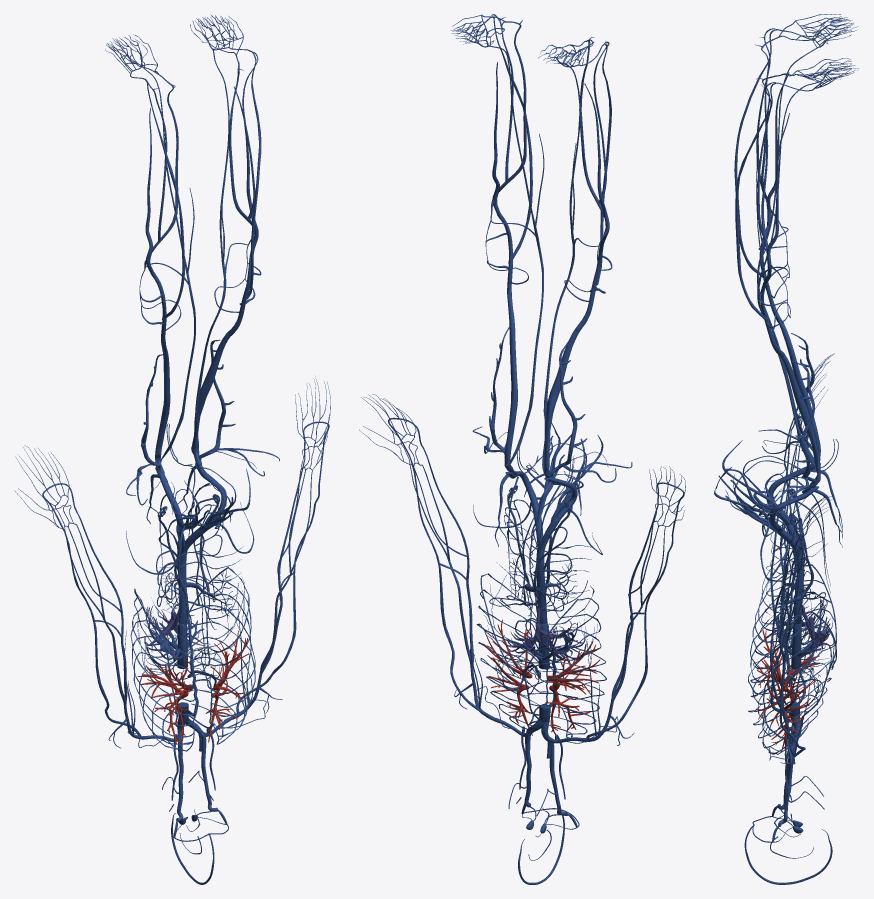
Rendered from venous.glb.
3 renders of one model, left to right at view 1: azimuth 30°, elevation 25°; view 2: azimuth 150°, elevation 25°; view 3: azimuth 270°, elevation 25°, orthographic. The views are drawn at different scales.
Parts seen in each view (by area): view 1: FJ1985, FJ1994, FJ2103, FJ2145, FJ2102, FJ2144, FJ2121, FJ2176, FJ2220, FJ2272; view 2: FJ1994, FJ2103, FJ2145, FJ1985, FJ2102, FJ2144, FJ2220, FJ2272, FJ2121; view 3: FJ1985, FJ1994, FJ2102, FJ2103, FJ2121, FJ2145, FJ2144, FJ2176, FJ2099, FJ2220, FJ2183, FJ2118 (+15 smaller).
Part boxes in pixels (x1,y1,x2,y2): FJ1985: [177, 568, 255, 744]; FJ1994: [130, 590, 197, 751]; FJ2103: [191, 51, 229, 454]; FJ2145: [143, 68, 195, 462]; FJ2102: [194, 333, 229, 465]; FJ2144: [155, 349, 170, 474]; FJ2121: [246, 49, 261, 299]; FJ2176: [135, 77, 184, 320]; FJ2220: [236, 450, 323, 712]; FJ2272: [56, 515, 140, 735]; FJ1994: [524, 586, 606, 737]; FJ2103: [490, 46, 544, 465]; FJ2145: [542, 63, 580, 473]; FJ1985: [476, 562, 546, 729]; FJ2102: [504, 310, 517, 472]; FJ2144: [544, 327, 579, 478]; FJ2220: [401, 441, 488, 717]; FJ2272: [586, 509, 677, 741]; FJ2121: [484, 17, 532, 263]; FJ1985: [748, 608, 835, 754]; FJ1994: [748, 564, 834, 736]; FJ2102: [780, 354, 820, 487]; FJ2103: [756, 82, 818, 472]; FJ2121: [735, 82, 792, 319]; FJ2145: [756, 47, 819, 459]; FJ2144: [778, 320, 820, 469]; FJ2176: [734, 29, 791, 277]; FJ2099: [792, 360, 816, 493]; FJ2220: [779, 550, 805, 755]; FJ2183: [766, 113, 789, 277]; FJ2118: [761, 75, 779, 253].
Bounding box in the file's own units: 649 × 1635 × 257.
